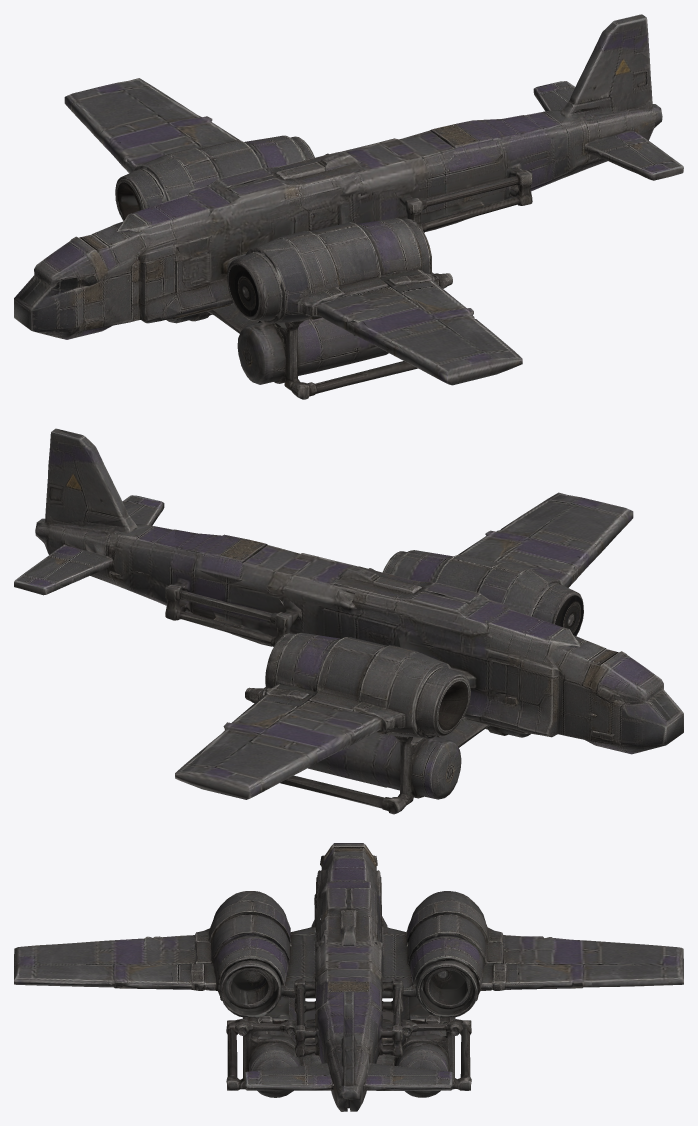
Rendered from scrapvulture-heavy-bomber.glb.
3 renders of one model, top to bottom at view 1: azimuth 30°, elevation 25°; view 2: azimuth 150°, elevation 25°; view 3: azimuth 270°, elevation 25°, orthographic. The views are drawn at different scales.
Parts seen in each view (by area): view 1: Hull; view 2: Hull; view 3: Hull.
Part boxes in pixels (x1,y1,x2,y2): Hull: (14, 14, 683, 399); Hull: (14, 428, 683, 814); Hull: (14, 843, 683, 1111).
Size of the model in its own units: 1.91 by 0.6702 by 2.
Materials: 1 (1 with a texture image).
